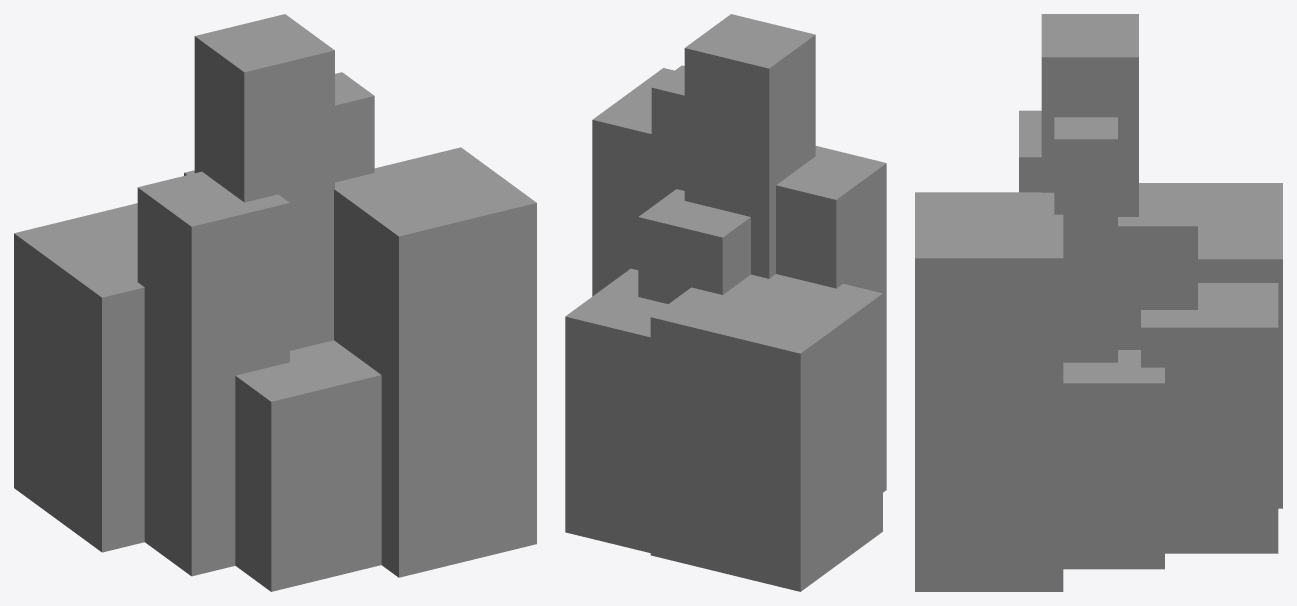
File: SaltB.fbx
3 renders of one model, left to right at view 1: azimuth 30°, elevation 25°; view 2: azimuth 150°, elevation 25°; view 3: azimuth 270°, elevation 25°, orthographic. The views are drawn at different scales.
Parts seen in each view (by area): view 1: SaltB; view 2: SaltB; view 3: SaltB.
Part boxes in pixels (left/top/right/bottom): SaltB: left=14, top=14, right=536, bottom=591; SaltB: left=565, top=14, right=886, bottom=591; SaltB: left=915, top=14, right=1282, bottom=591.
Size of the model in its own units: 28.37 by 38.85 by 27.61.
